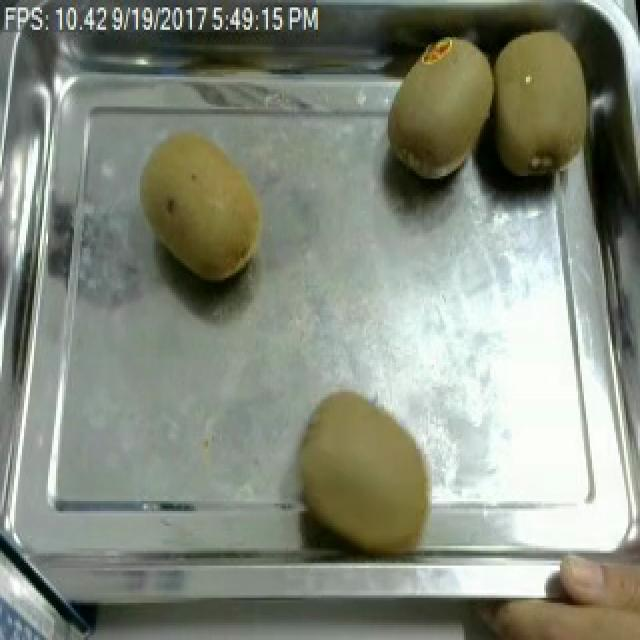Fruit: (288, 382, 446, 561), (130, 122, 276, 290), (494, 15, 610, 198), (378, 22, 494, 194)
